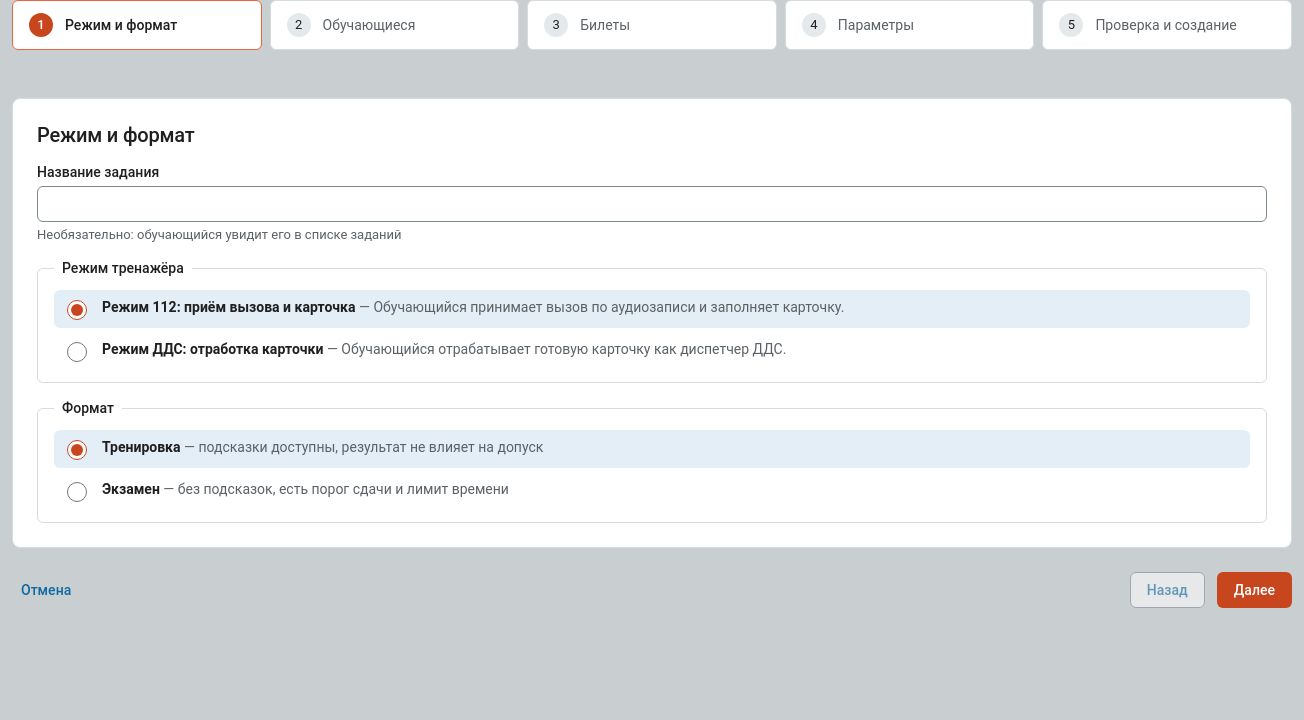
Test: мастер назначения › шаг 1: без обучающихся дальше не пускает; блокированные и чужие группы не показываются
This screenshot has width=1304, height=720.
Step 1. Click the button "Далее" → (1254, 590), box [1217, 572, 1292, 608]
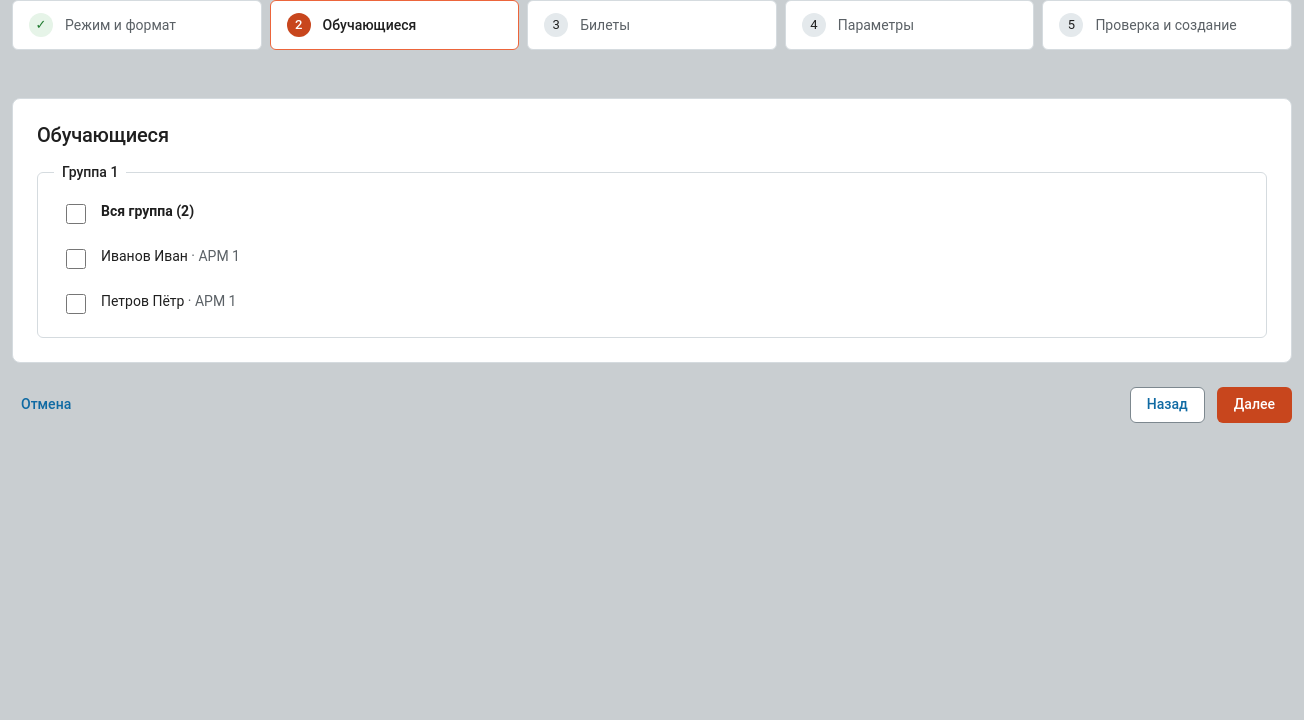
Check: the text "Иванов Иван" is shown, box [101, 248, 188, 264]
Step 2. Click the button "Далее" → (1254, 405), box [1217, 387, 1292, 423]
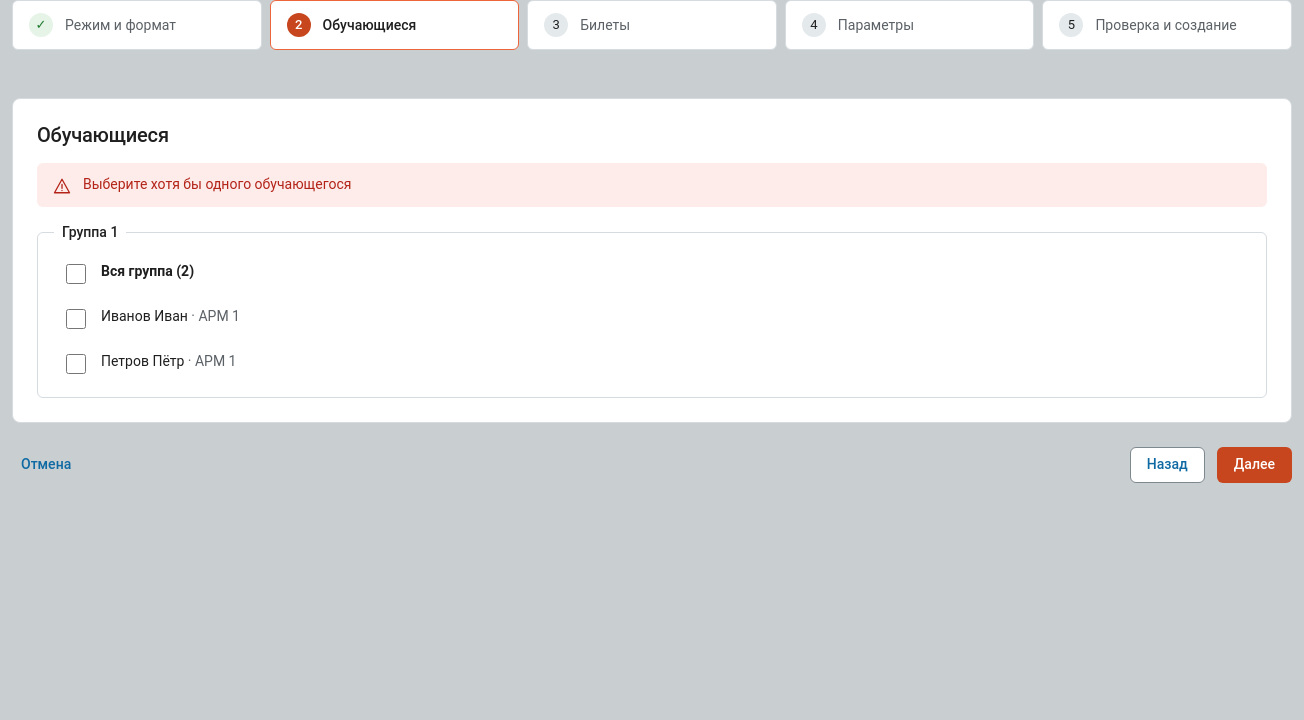
Check: the heading "Обучающиеся" is shown, box [37, 123, 169, 147]
Check: the message reads "Выберите хотя бы одного обучающегося", box [83, 176, 352, 192]
